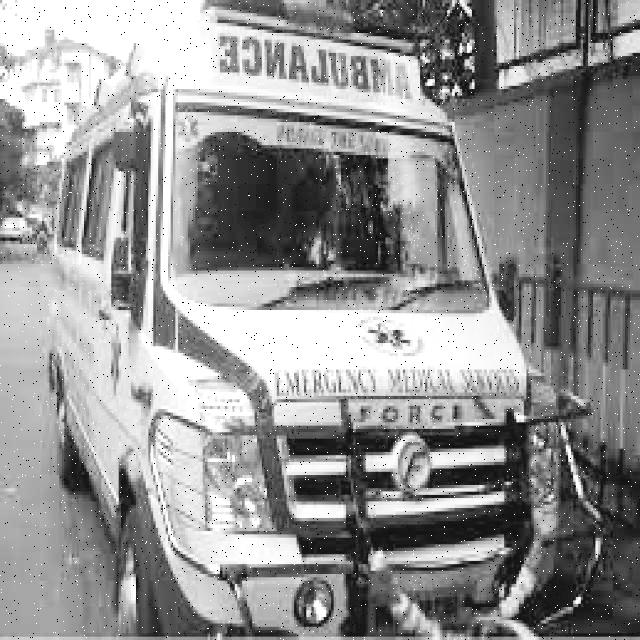LCV: (113, 7, 564, 640)
